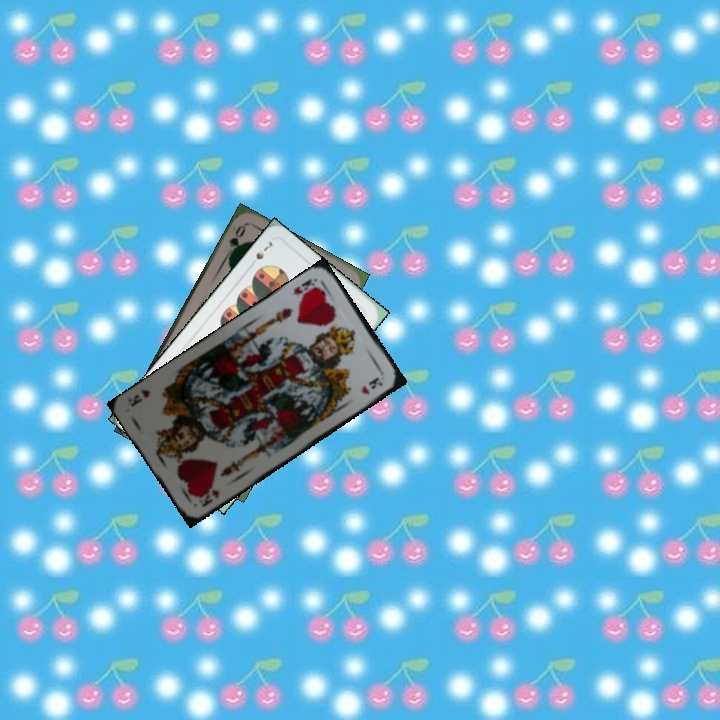GO: (225, 222, 248, 260)
HK: (289, 275, 322, 301), (191, 483, 222, 509)
S7: (245, 236, 275, 270)
